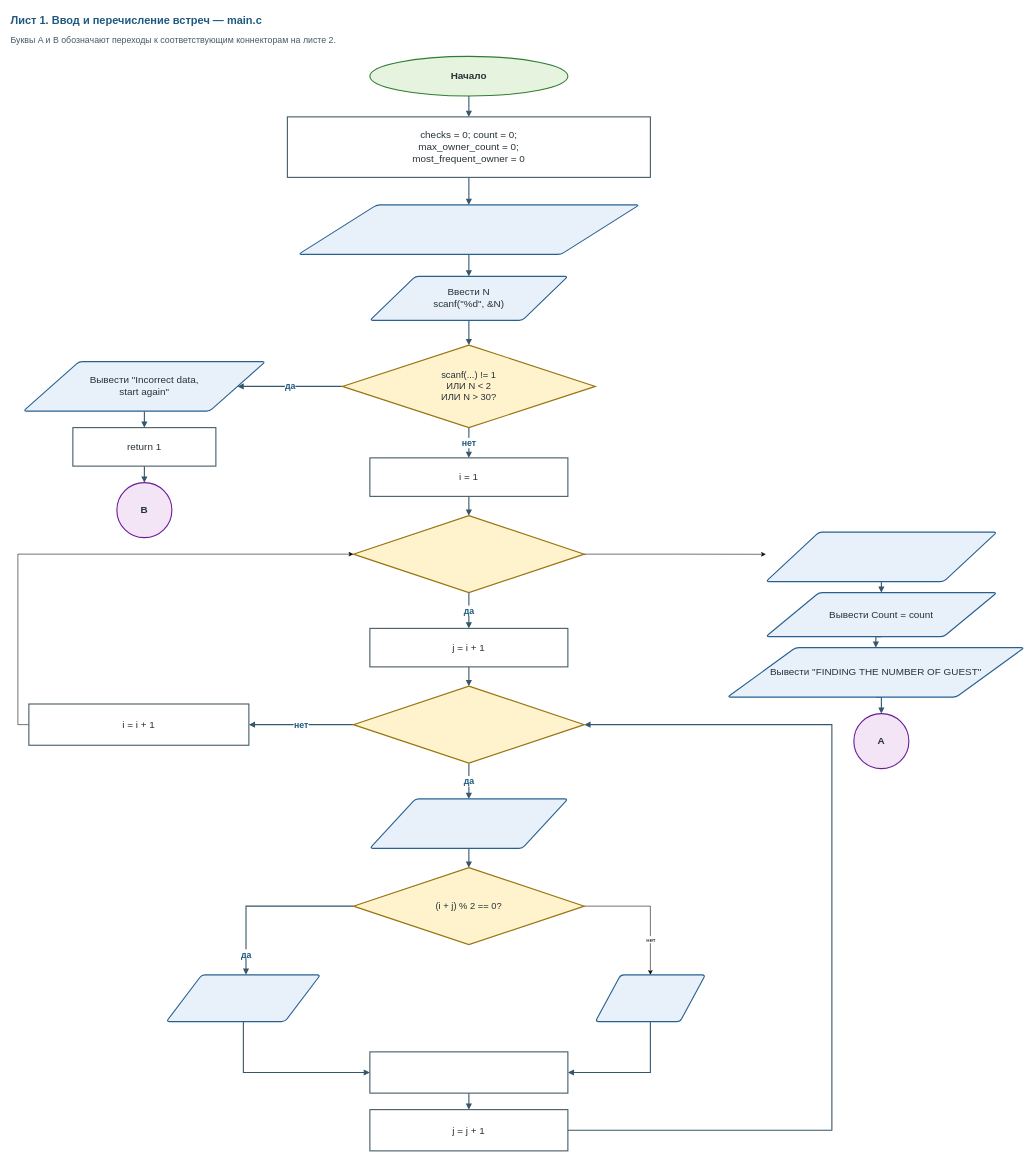
Some shapes in this 1034 by 1161 pixel diagram are drawn without their labels. Here are the shapes that lost their labels. From the top down, the box of each, then its label:
(298, 204, 640, 255): Вывести приглашение: "Enter number of guests(between 2 and 30)"
(353, 515, 585, 593): i <= N?
(765, 531, 997, 582): Вывести Control value = N * (N - 1) / 2
(353, 685, 585, 763): j <= N?
(369, 798, 568, 849): Вывести пару: printf("%d %d\n", i, j)
(166, 974, 321, 1022): printf("Owner - %d\n\n", i)
(595, 974, 706, 1022): printf("Owner - %d\n\n", j)
(369, 1051, 568, 1093): count++
